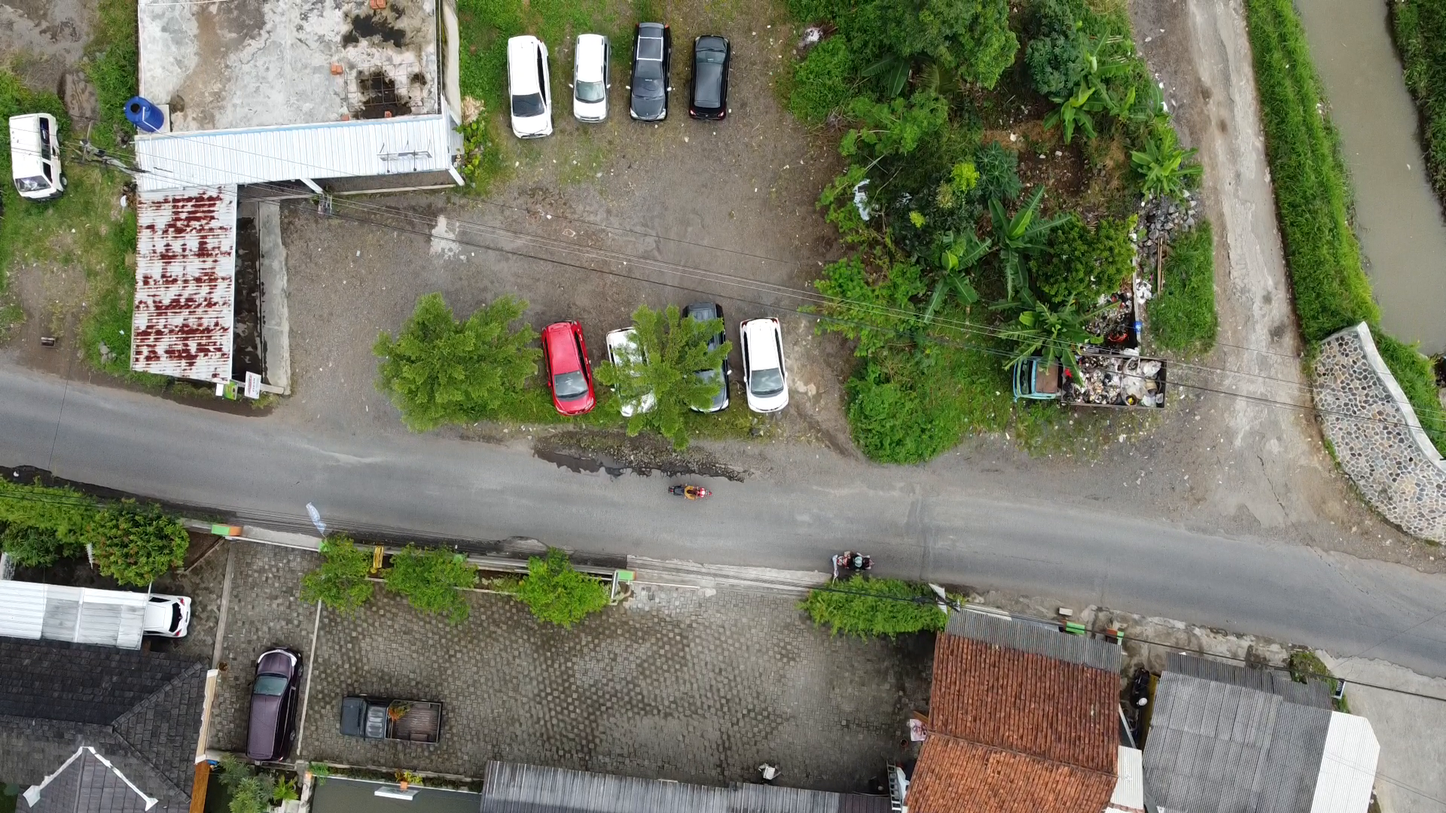mobil: (239, 643, 306, 772), (669, 291, 733, 419), (535, 315, 605, 425), (496, 32, 563, 144), (333, 687, 459, 745), (599, 319, 665, 428), (729, 310, 793, 413), (560, 29, 621, 137), (5, 111, 72, 207), (685, 23, 733, 123), (635, 12, 677, 121), (139, 595, 198, 650)
